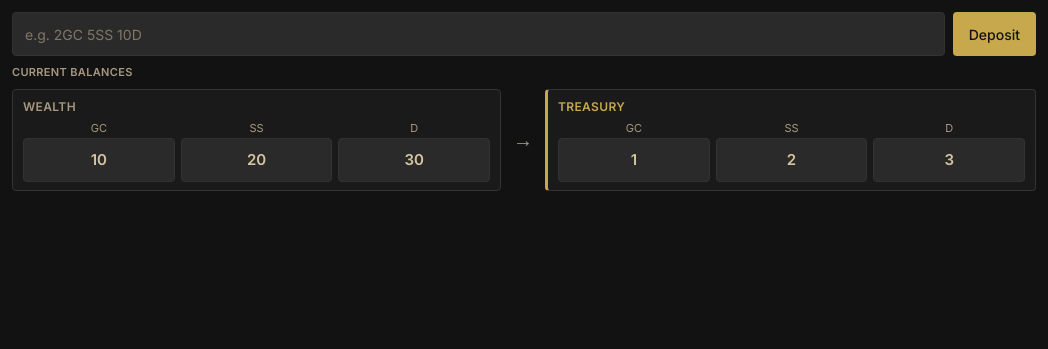
Scenario: TransferControl breakdown tooltip (Req 6.3) › shows current − transferred = result for the source pool (deposit)
In the field named "amount": {"x": 478, "y": 34} left=12, top=12, right=945, bottom=56, type "2GC 5SS 10D"
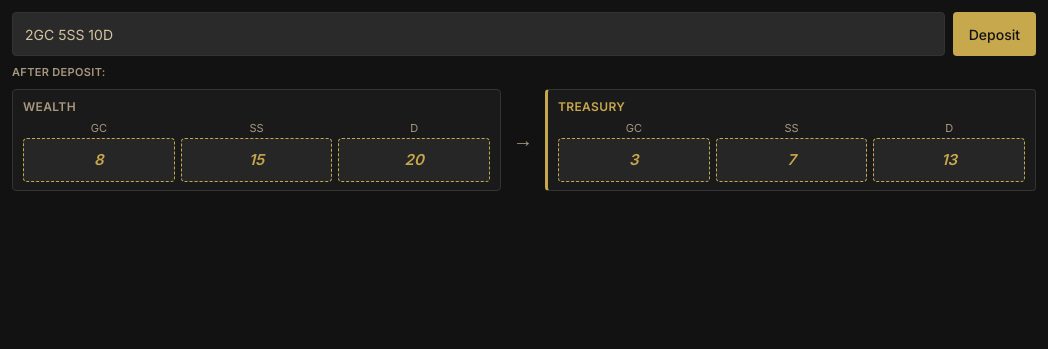
Click the button with test id "transfer-deposit-source-gc": {"x": 99, "y": 160} left=23, top=138, right=175, bottom=182
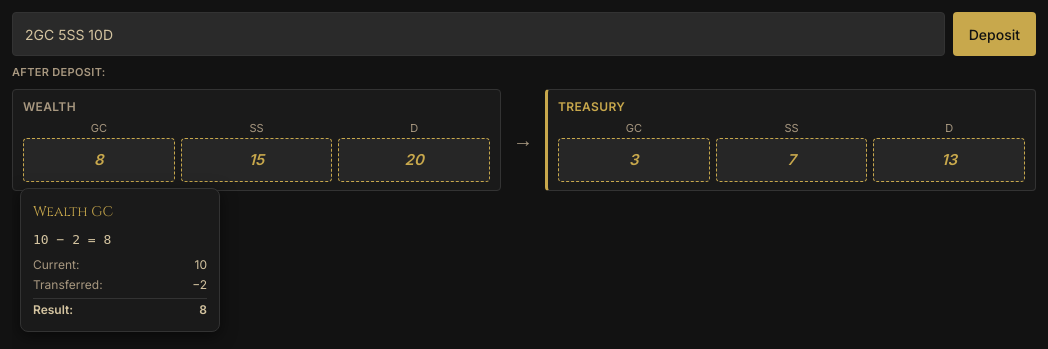
Expected: the tooltip shows "Current:", left=33, top=256, right=79, bottom=272
Expected: the tooltip shows "Transferred:", left=33, top=276, right=103, bottom=292
Expected: the tooltip shows "Result:", left=33, top=302, right=73, bottom=316
